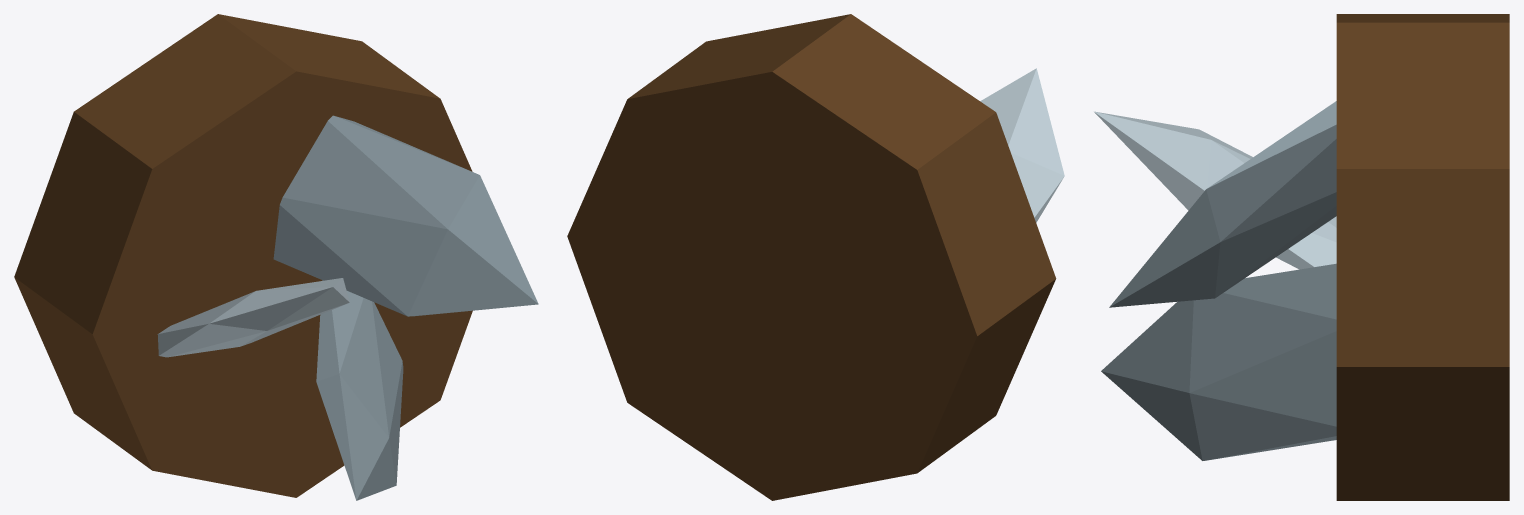
The model's file is 1_seedling.obj.
The picture shows the model from 3 angles, left to right: view 1: azimuth 30°, elevation 25°; view 2: azimuth 150°, elevation 25°; view 3: azimuth 270°, elevation 25°; orthographic projection. The views are drawn at different scales.
Parts seen in each view (by area): view 1: dwarfweed_1_seedling; view 2: dwarfweed_1_seedling; view 3: dwarfweed_1_seedling.
Part boxes in pixels (x1,y1,x2,y2): dwarfweed_1_seedling: (14,14,538,500); dwarfweed_1_seedling: (567,14,1064,500); dwarfweed_1_seedling: (1094,14,1509,500).
Bounding box in the file's own units: 0.12 × 0.12 × 0.0963.
